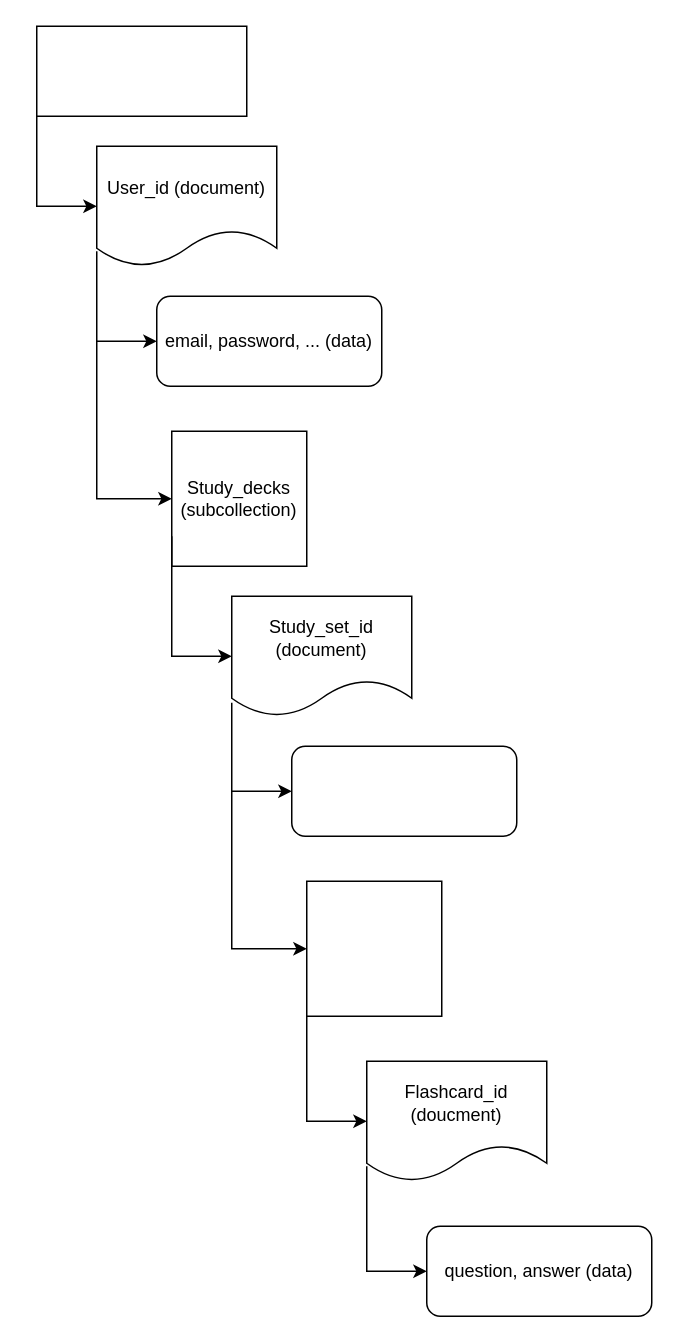
Some shapes in this 678 by 1343 pixel diagram are drawn without their labels. The shapes that lost their labels are listed below. From the top down, each one's box as (x1, y1, x2, y2) in pixels, then its label:
(35, 25, 247, 116): Users (collection)
(290, 745, 517, 836): name, timestamp, ... (data)
(305, 880, 442, 1016): Flashcards (subcollection)
